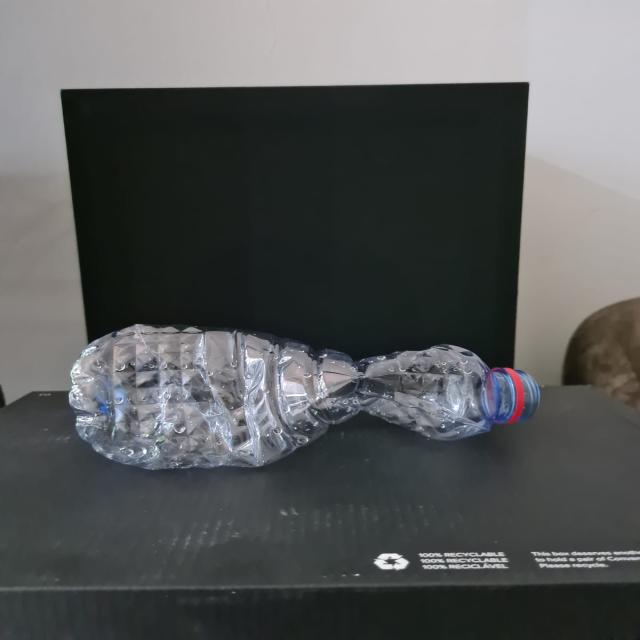plastic bottle: (63, 290, 548, 480)
